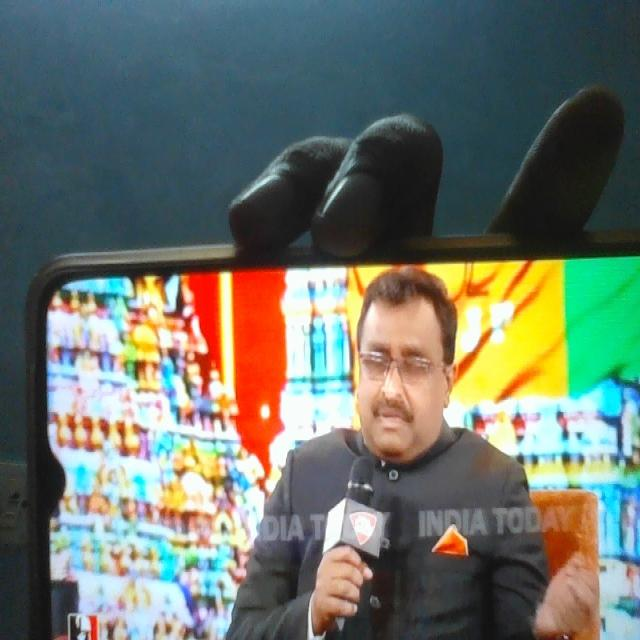fake: (338, 239, 460, 469)
